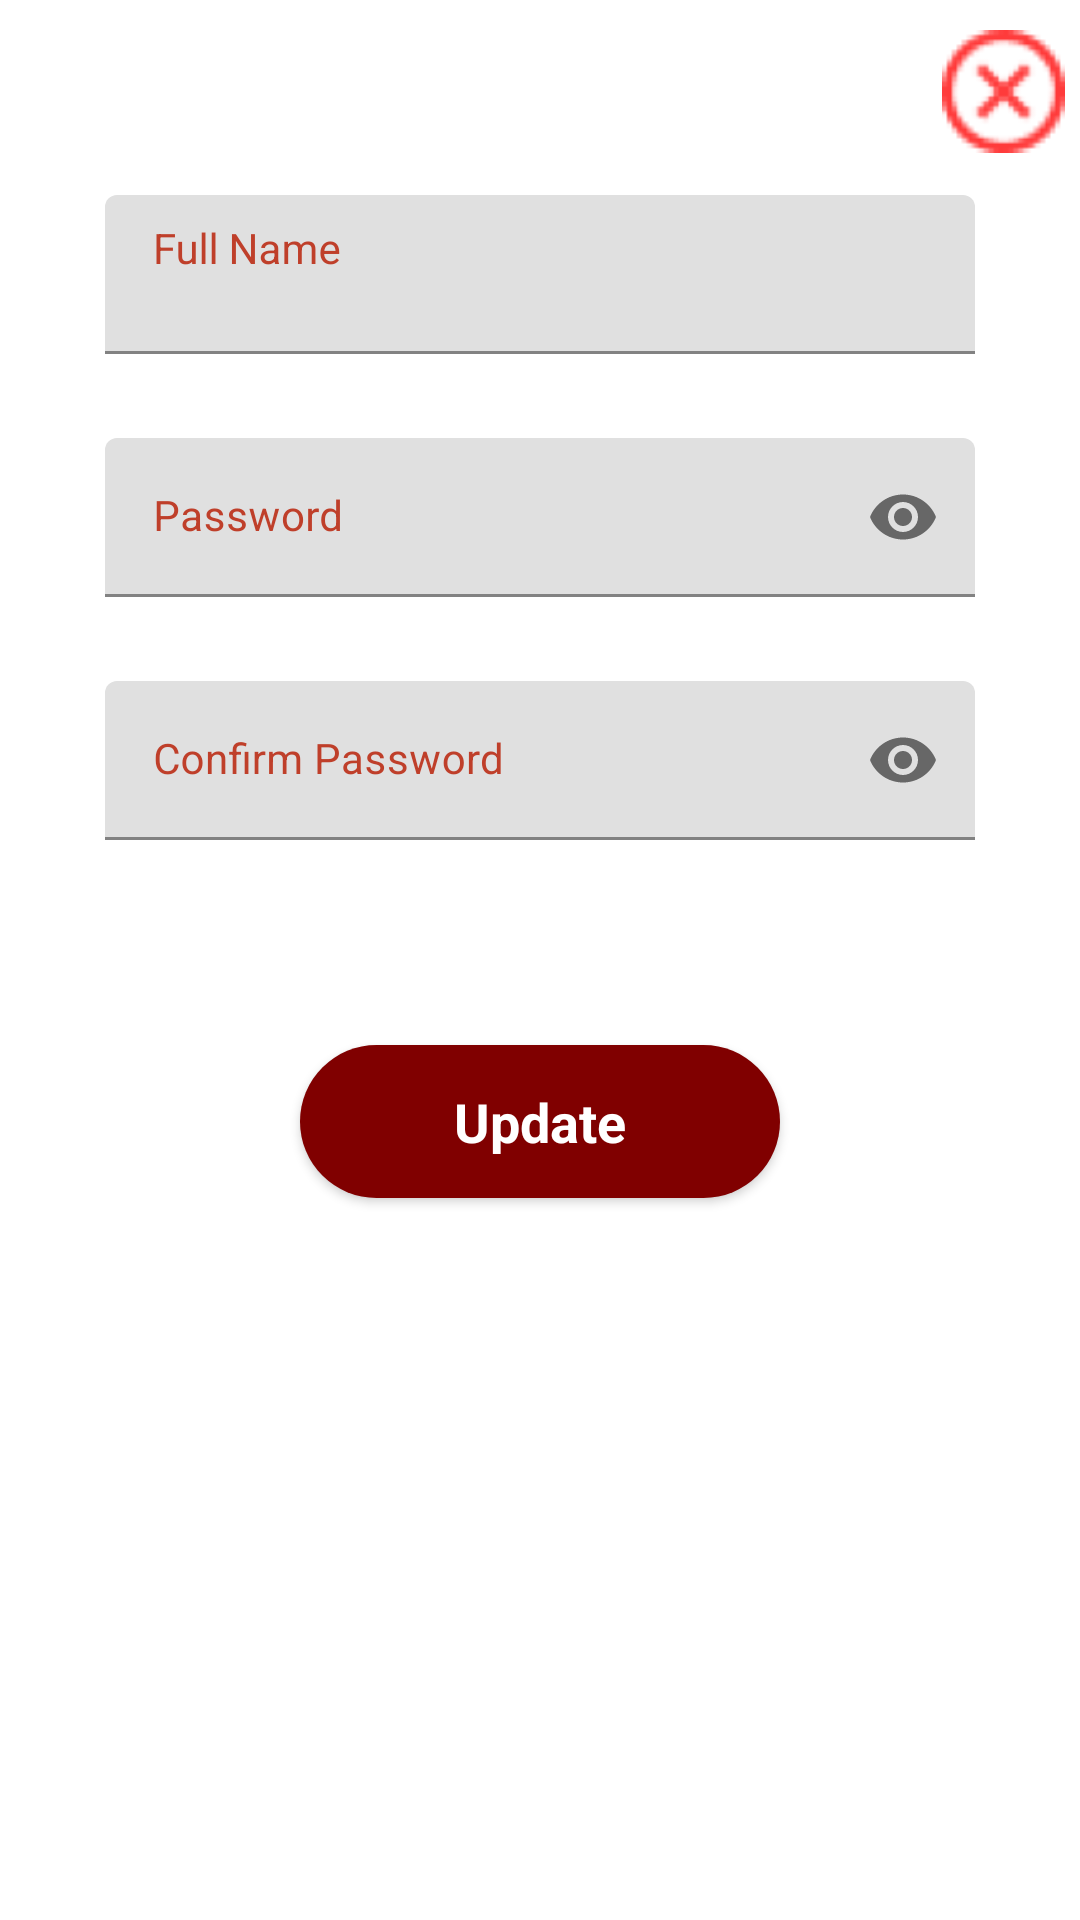

Where icons sit on this 1080px×1920px app screen, as {"left": x1, "top": y1, "right": x2, "bottom": y2}:
xbutton: {"left": 942, "top": 30, "right": 1065, "bottom": 153}
